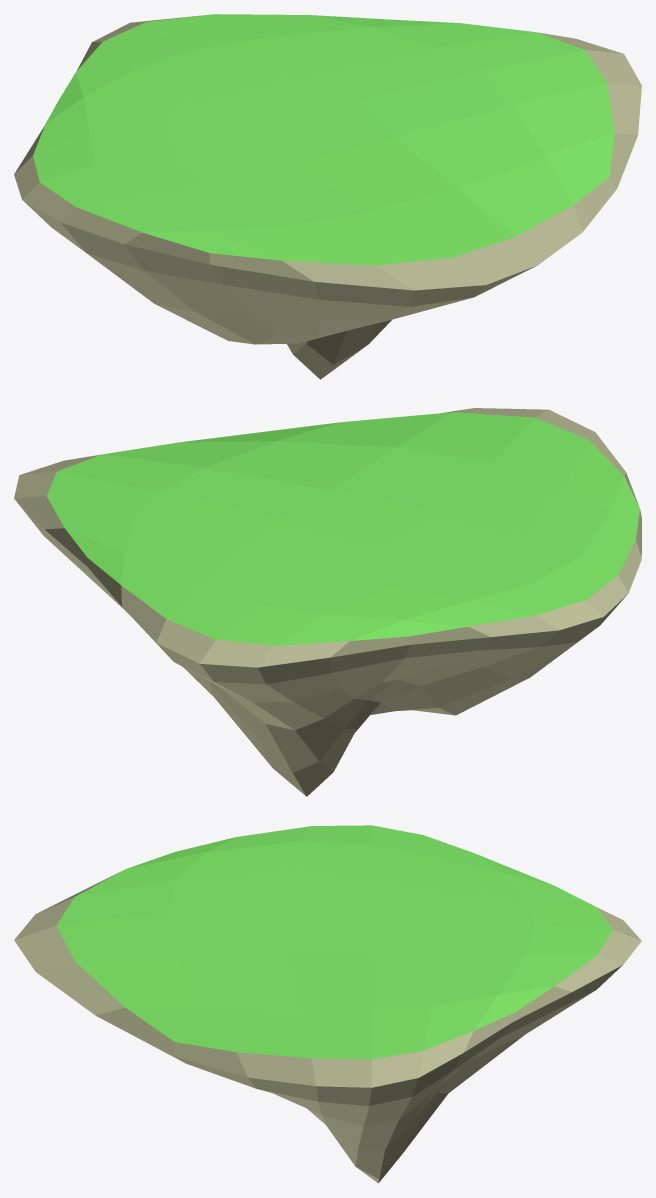
The model's file is Island1.fbx.
3 views of the same model, one above another, from view 1: azimuth 30°, elevation 25°; view 2: azimuth 150°, elevation 25°; view 3: azimuth 270°, elevation 25° (orthographic). The views are drawn at different scales.
Parts seen in each view (by area): view 1: Island 1; view 2: Island 1; view 3: Island 1.
Part boxes in pixels (box(x1,y1,x2,y2)): Island 1: box(14, 14, 641, 379); Island 1: box(14, 408, 641, 796); Island 1: box(14, 825, 641, 1183).
Bounding box in the file's own units: 737 × 321 × 760.
